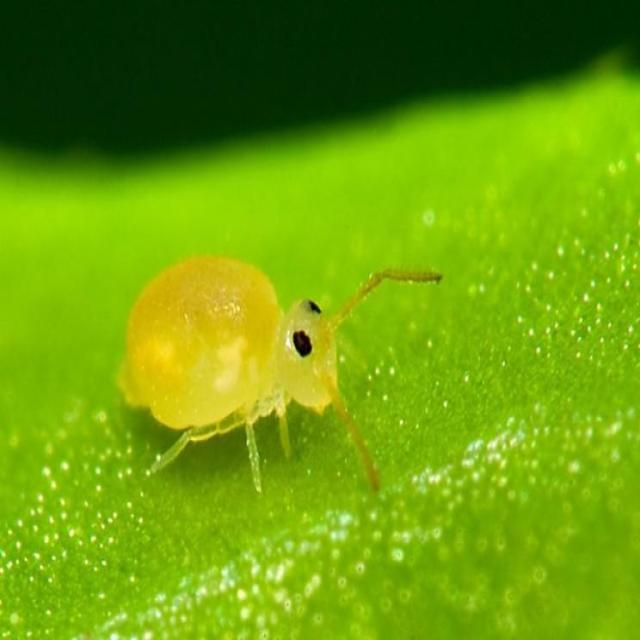Aphids: (110, 203, 446, 518)
